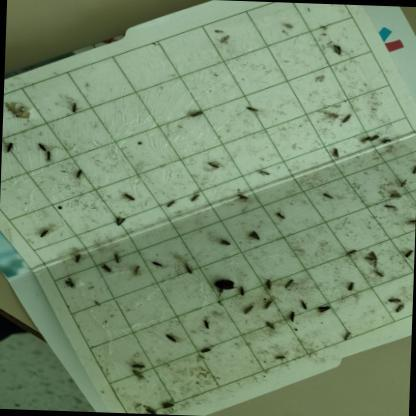prays_oleae: (233, 183, 253, 213), (362, 243, 381, 273), (271, 341, 290, 370), (339, 240, 360, 266), (162, 188, 180, 218), (314, 298, 338, 320), (259, 162, 276, 193), (243, 102, 268, 122), (238, 298, 257, 324), (61, 270, 77, 300), (128, 258, 146, 284), (122, 181, 138, 210), (147, 256, 170, 276), (71, 165, 89, 190), (36, 218, 52, 246), (158, 393, 178, 415), (128, 352, 150, 371), (218, 232, 236, 255), (129, 365, 147, 388), (164, 328, 181, 352), (204, 158, 221, 182), (262, 295, 279, 318), (337, 106, 353, 130), (182, 255, 196, 282), (3, 135, 16, 164), (272, 206, 289, 228), (138, 398, 161, 414), (196, 344, 214, 364), (100, 258, 116, 280), (110, 248, 125, 271), (371, 266, 388, 286), (263, 314, 280, 334), (338, 325, 354, 346), (190, 186, 204, 209), (386, 291, 406, 307), (378, 138, 400, 152), (366, 131, 386, 146), (248, 228, 263, 248), (401, 242, 415, 263), (187, 104, 208, 118), (114, 212, 128, 233), (388, 187, 404, 205), (343, 282, 361, 298), (282, 274, 296, 294), (72, 247, 84, 270), (322, 188, 336, 206), (199, 316, 213, 334), (69, 99, 81, 120), (264, 276, 277, 295), (328, 144, 343, 160), (235, 279, 247, 299), (392, 302, 406, 318), (329, 44, 343, 60), (38, 138, 48, 160), (380, 202, 398, 214), (285, 308, 297, 326), (408, 154, 416, 179), (300, 296, 310, 316), (403, 217, 416, 232), (42, 150, 54, 165), (362, 134, 370, 148), (400, 176, 408, 190)
